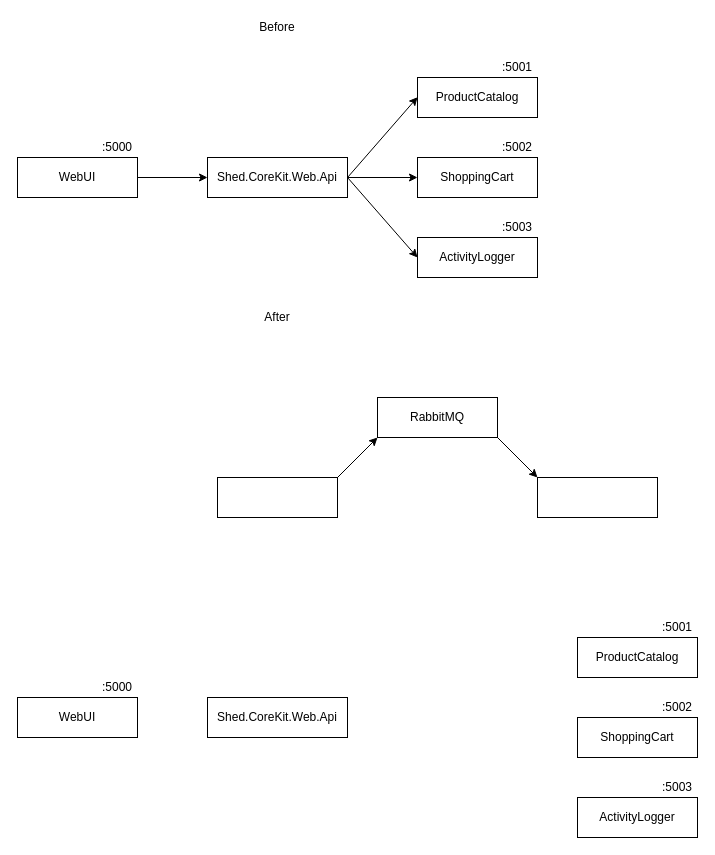
Image size: 715x855. Some labels were removed from this diagram. Here are the shapes that lost their labels. From the top down, the centre of each, then its label:
[277,497]: Producer
[597,497]: Consumer
